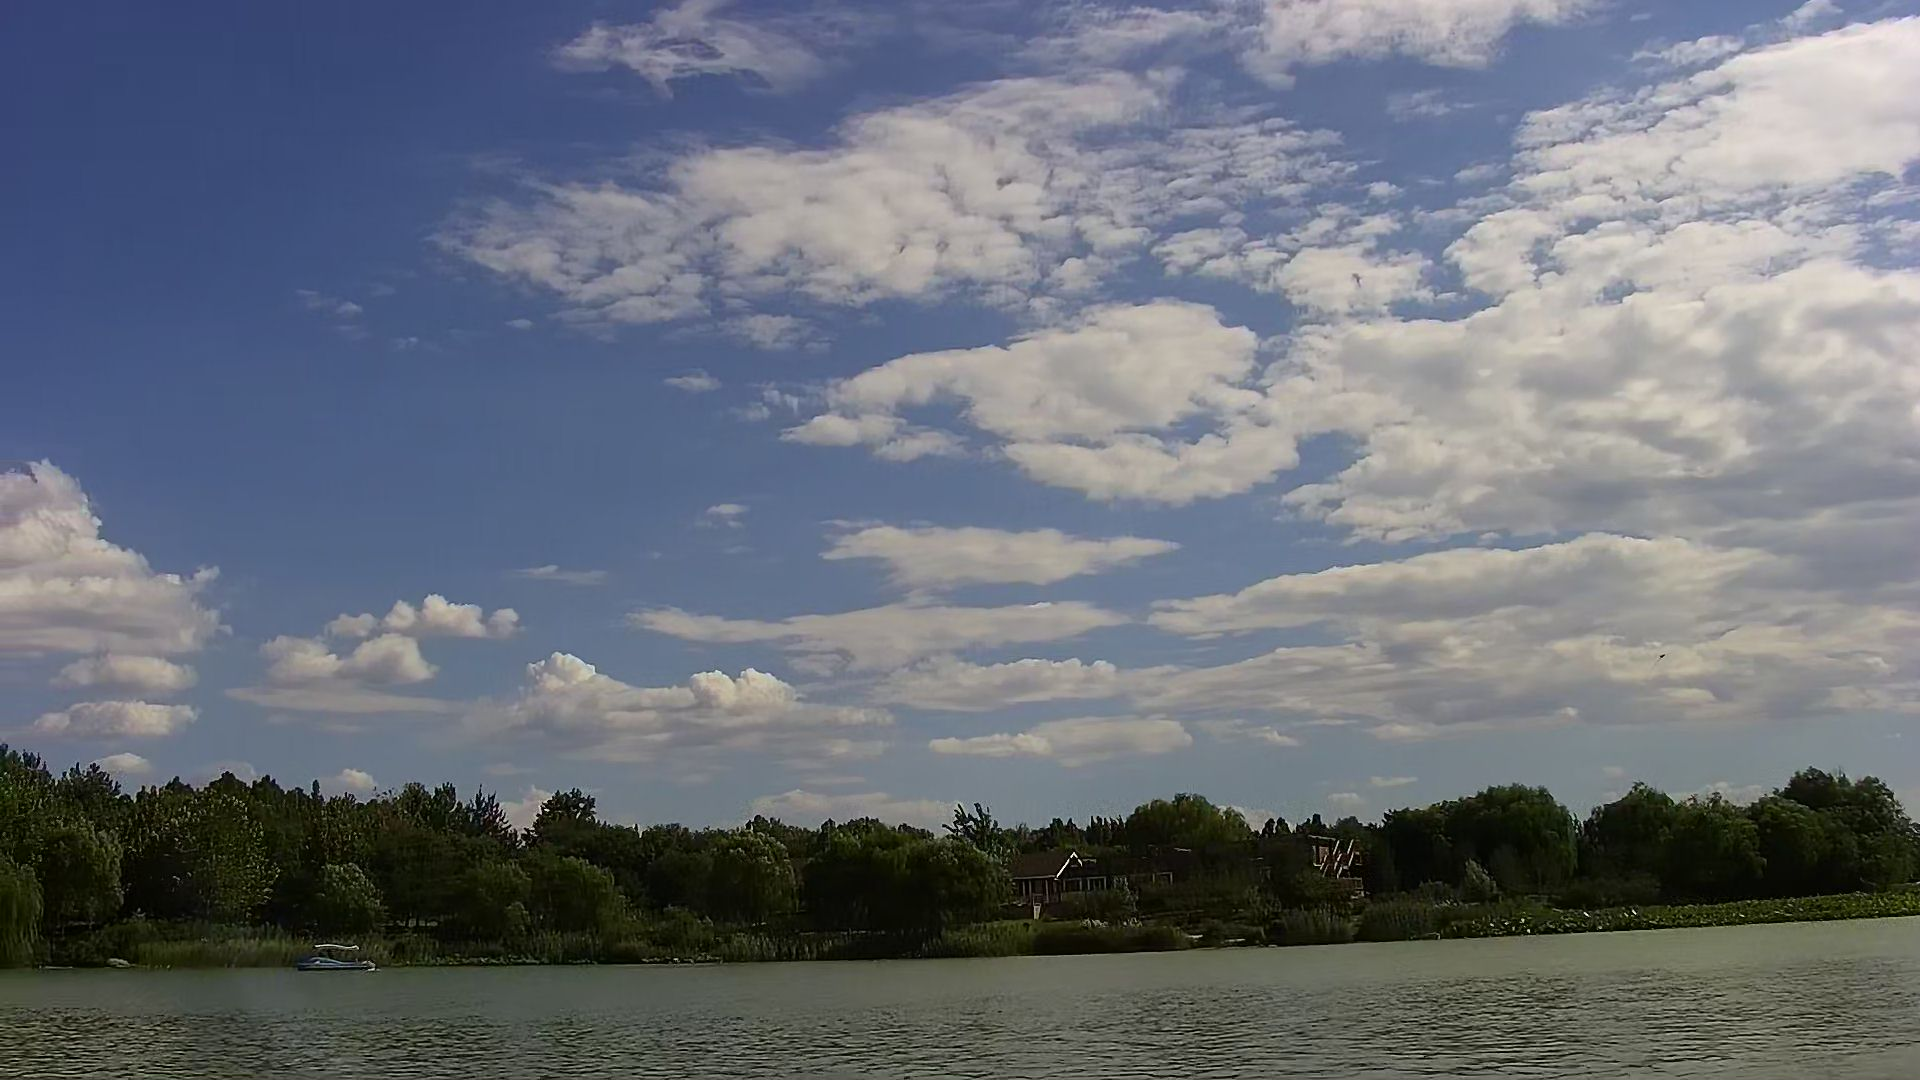boat: (295, 931, 378, 978)
